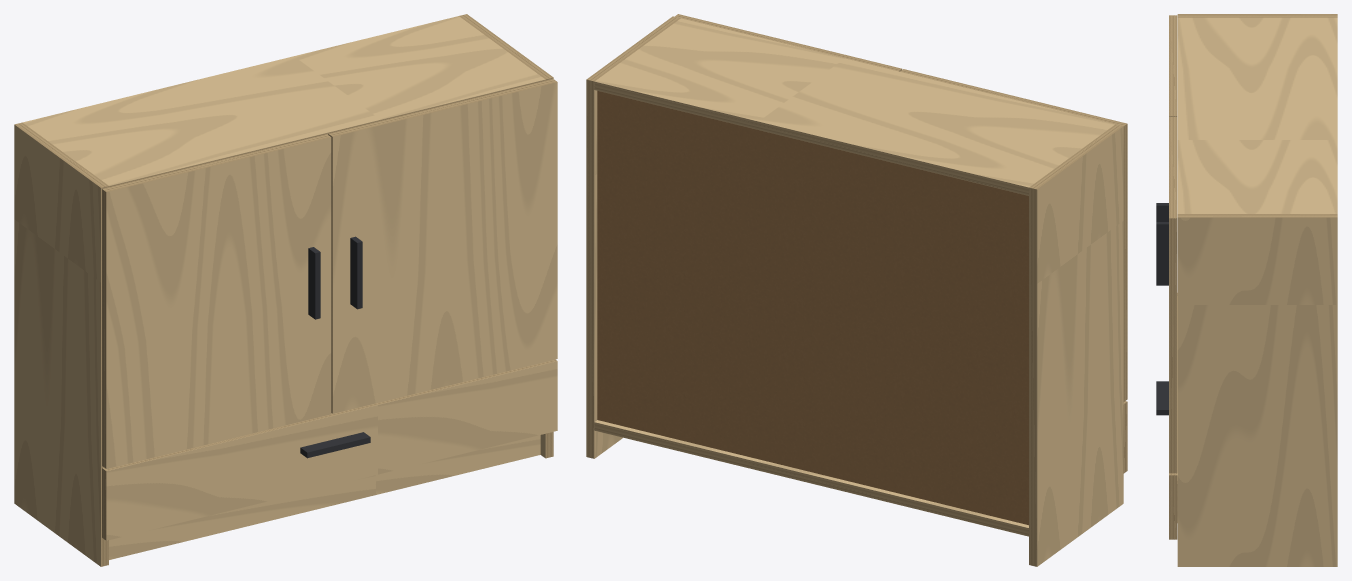
The model's file is SAB-CON-std.glb.
The picture shows the model from 3 angles, left to right: view 1: azimuth 30°, elevation 25°; view 2: azimuth 150°, elevation 25°; view 3: azimuth 270°, elevation 25°; orthographic projection. The views are drawn at different scales.
Visible parts, largest first — view 1: door-r:sheet:eyJtIjoicGx5Iiwic2lkZSI6ImZhY2UiLCJzZWVkIjoxLCJ, door-l:sheet:eyJtIjoicGx5Iiwic2lkZSI6ImZhY2UiLCJzZWVkIjoyLCJ, top:sheet:eyJtIjoicGx5Iiwic2lkZSI6ImZhY2UiLCJzZWVkIjo2LCJ2ZW, side-l:sheet:eyJtIjoicGx5Iiwic2lkZSI6ImZhY2UiLCJzZWVkIjoxLCJ, d1-front:sheet:eyJtIjoicGx5Iiwic2lkZSI6ImZhY2UiLCJzZWVkIjo2L, plinth:sheet:eyJtIjoicGx5Iiwic2lkZSI6ImZhY2UiLCJzZWVkIjozLCJ, pull, door-l:sheet:eyJtIjoicGx5Iiwic2lkZSI6ImVkZ2UtbG9uZyIsInNlZWQ, d1-front:sheet:eyJtIjoicGx5Iiwic2lkZSI6ImVkZ2UtbG9uZyIsInNlZ, door-l:sheet:eyJtIjoicGx5Iiwic2lkZSI6ImVkZ2UtZW5kIiwic2VlZCI, door-r:sheet:eyJtIjoicGx5Iiwic2lkZSI6ImVkZ2UtZW5kIiwic2VlZCI, top:sheet:eyJtIjoicGx5Iiwic2lkZSI6ImVkZ2UtbG9uZyIsInNlZWQiOj (+2 smaller); view 2: back:sheet:eyJtIjoibWRmIiwic2lkZSI6ImZhY2UiLCJzZWVkIjoyLCJ0a, top:sheet:eyJtIjoicGx5Iiwic2lkZSI6ImZhY2UiLCJzZWVkIjo2LCJ2ZW, side-l:sheet:eyJtIjoicGx5Iiwic2lkZSI6ImZhY2UiLCJzZWVkIjoxLCJ, top:sheet:eyJtIjoicGx5Iiwic2lkZSI6ImVkZ2UtbG9uZyIsInNlZWQiOj, bottom:sheet:eyJtIjoicGx5Iiwic2lkZSI6ImVkZ2UtbG9uZyIsInNlZWQ, side-r:sheet:eyJtIjoicGx5Iiwic2lkZSI6ImVkZ2UtbG9uZyIsInNlZWQ, side-l:sheet:eyJtIjoicGx5Iiwic2lkZSI6ImVkZ2UtbG9uZyIsInNlZWQ, side-r:sheet:eyJtIjoicGx5Iiwic2lkZSI6ImZhY2UiLCJzZWVkIjozLCJ, bottom:sheet:eyJtIjoicGx5Iiwic2lkZSI6ImZhY2UiLCJzZWVkIjowLCJ, door-l:sheet:eyJtIjoicGx5Iiwic2lkZSI6ImVkZ2UtbG9uZyIsInNlZWQ, door-r:sheet:eyJtIjoicGx5Iiwic2lkZSI6ImVkZ2UtZW5kIiwic2VlZCI, door-l:sheet:eyJtIjoicGx5Iiwic2lkZSI6ImVkZ2UtZW5kIiwic2VlZCI (+2 smaller); view 3: side-r:sheet:eyJtIjoicGx5Iiwic2lkZSI6ImZhY2UiLCJzZWVkIjozLCJ, top:sheet:eyJtIjoicGx5Iiwic2lkZSI6ImZhY2UiLCJzZWVkIjo2LCJ2ZW, door-r:sheet:eyJtIjoicGx5Iiwic2lkZSI6ImVkZ2UtbG9uZyIsInNlZWQ, pull, door-l:sheet:eyJtIjoicGx5Iiwic2lkZSI6ImVkZ2UtZW5kIiwic2VlZCI, door-r:sheet:eyJtIjoicGx5Iiwic2lkZSI6ImVkZ2UtZW5kIiwic2VlZCI, side-l:sheet:eyJtIjoicGx5Iiwic2lkZSI6ImVkZ2UtZW5kIiwic2VlZCI, side-r:sheet:eyJtIjoicGx5Iiwic2lkZSI6ImVkZ2UtZW5kIiwic2VlZCI, d1-front:sheet:eyJtIjoicGx5Iiwic2lkZSI6ImVkZ2UtZW5kIiwic2VlZ.
Boxes of the visible parts, left/top/right/bottom form: door-r:sheet:eyJtIjoicGx5Iiwic2lkZSI6ImZhY2UiLCJzZWVkIjoxLCJ: left=332, top=82, right=557, bottom=413; door-l:sheet:eyJtIjoicGx5Iiwic2lkZSI6ImZhY2UiLCJzZWVkIjoyLCJ: left=106, top=137, right=331, bottom=468; top:sheet:eyJtIjoicGx5Iiwic2lkZSI6ImZhY2UiLCJzZWVkIjo2LCJ2ZW: left=22, top=16, right=545, bottom=185; side-l:sheet:eyJtIjoicGx5Iiwic2lkZSI6ImZhY2UiLCJzZWVkIjoxLCJ: left=14, top=125, right=100, bottom=566; d1-front:sheet:eyJtIjoicGx5Iiwic2lkZSI6ImZhY2UiLCJzZWVkIjo2L: left=106, top=361, right=557, bottom=540; plinth:sheet:eyJtIjoicGx5Iiwic2lkZSI6ImZhY2UiLCJzZWVkIjozLCJ: left=109, top=435, right=540, bottom=559; pull: left=300, top=236, right=370, bottom=458; door-l:sheet:eyJtIjoicGx5Iiwic2lkZSI6ImVkZ2UtbG9uZyIsInNlZWQ: left=102, top=189, right=106, bottom=468; d1-front:sheet:eyJtIjoicGx5Iiwic2lkZSI6ImVkZ2UtbG9uZyIsInNlZ: left=102, top=359, right=557, bottom=470; door-l:sheet:eyJtIjoicGx5Iiwic2lkZSI6ImVkZ2UtZW5kIiwic2VlZCI: left=102, top=134, right=330, bottom=191; door-r:sheet:eyJtIjoicGx5Iiwic2lkZSI6ImVkZ2UtZW5kIiwic2VlZCI: left=328, top=79, right=556, bottom=136; top:sheet:eyJtIjoicGx5Iiwic2lkZSI6ImVkZ2UtbG9uZyIsInNlZWQiOj: left=109, top=79, right=545, bottom=186; back:sheet:eyJtIjoibWRmIiwic2lkZSI6ImZhY2UiLCJzZWVkIjoyLCJ0a: left=597, top=91, right=1028, bottom=525; top:sheet:eyJtIjoicGx5Iiwic2lkZSI6ImZhY2UiLCJzZWVkIjo2LCJ2ZW: left=595, top=18, right=1114, bottom=187; side-l:sheet:eyJtIjoicGx5Iiwic2lkZSI6ImZhY2UiLCJzZWVkIjoxLCJ: left=1037, top=126, right=1123, bottom=566; top:sheet:eyJtIjoicGx5Iiwic2lkZSI6ImVkZ2UtbG9uZyIsInNlZWQiOj: left=594, top=81, right=1028, bottom=195; bottom:sheet:eyJtIjoicGx5Iiwic2lkZSI6ImVkZ2UtbG9uZyIsInNlZWQ: left=594, top=422, right=1028, bottom=536; side-r:sheet:eyJtIjoicGx5Iiwic2lkZSI6ImVkZ2UtbG9uZyIsInNlZWQ: left=586, top=79, right=594, bottom=458; side-l:sheet:eyJtIjoicGx5Iiwic2lkZSI6ImVkZ2UtbG9uZyIsInNlZWQ: left=1029, top=187, right=1037, bottom=566; side-r:sheet:eyJtIjoicGx5Iiwic2lkZSI6ImZhY2UiLCJzZWVkIjozLCJ: left=594, top=90, right=622, bottom=458; bottom:sheet:eyJtIjoicGx5Iiwic2lkZSI6ImZhY2UiLCJzZWVkIjowLCJ: left=595, top=420, right=1028, bottom=527; door-l:sheet:eyJtIjoicGx5Iiwic2lkZSI6ImVkZ2UtbG9uZyIsInNlZWQ: left=1123, top=124, right=1127, bottom=401; door-r:sheet:eyJtIjoicGx5Iiwic2lkZSI6ImVkZ2UtZW5kIiwic2VlZCI: left=675, top=14, right=901, bottom=71; door-l:sheet:eyJtIjoicGx5Iiwic2lkZSI6ImVkZ2UtZW5kIiwic2VlZCI: left=900, top=69, right=1126, bottom=126; side-r:sheet:eyJtIjoicGx5Iiwic2lkZSI6ImZhY2UiLCJzZWVkIjozLCJ: left=1177, top=217, right=1337, bottom=566; top:sheet:eyJtIjoicGx5Iiwic2lkZSI6ImZhY2UiLCJzZWVkIjo2LCJ2ZW: left=1177, top=17, right=1337, bottom=213; door-r:sheet:eyJtIjoicGx5Iiwic2lkZSI6ImVkZ2UtbG9uZyIsInNlZWQ: left=1169, top=218, right=1177, bottom=473; pull: left=1156, top=203, right=1168, bottom=415; door-l:sheet:eyJtIjoicGx5Iiwic2lkZSI6ImVkZ2UtZW5kIiwic2VlZCI: left=1169, top=15, right=1177, bottom=116; door-r:sheet:eyJtIjoicGx5Iiwic2lkZSI6ImVkZ2UtZW5kIiwic2VlZCI: left=1169, top=117, right=1177, bottom=218; side-l:sheet:eyJtIjoicGx5Iiwic2lkZSI6ImVkZ2UtZW5kIiwic2VlZCI: left=1177, top=14, right=1337, bottom=17; side-r:sheet:eyJtIjoicGx5Iiwic2lkZSI6ImVkZ2UtZW5kIiwic2VlZCI: left=1177, top=214, right=1337, bottom=217; d1-front:sheet:eyJtIjoicGx5Iiwic2lkZSI6ImVkZ2UtZW5kIiwic2VlZ: left=1169, top=475, right=1177, bottom=539.
Bounding box in the file's own units: 1 × 0.8 × 0.3766.
Materials: 55 (54 with a texture image).
